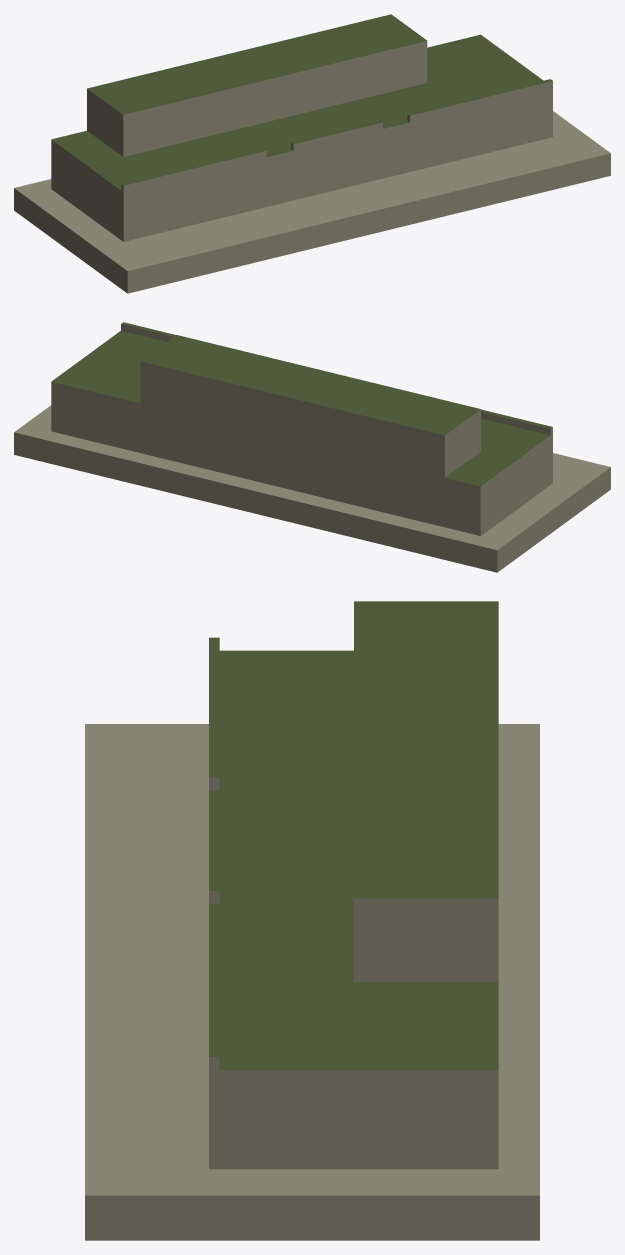
Rendered from ruin-palace.tone-v1.lod2.glb.
The picture shows the model from 3 angles, top to bottom: view 1: azimuth 30°, elevation 25°; view 2: azimuth 150°, elevation 25°; view 3: azimuth 270°, elevation 25°; orthographic projection. The views are drawn at different scales.
Visible parts, largest first — view 1: ruin-palace; view 2: ruin-palace; view 3: ruin-palace.
Part boxes in pixels (x1=…): ruin-palace: x1=14, y1=14, x2=610, y2=293; ruin-palace: x1=14, y1=322, x2=610, y2=572; ruin-palace: x1=85, y1=601, x2=539, y2=1240.
Size of the model in its own units: 54 by 12.2 by 22.
